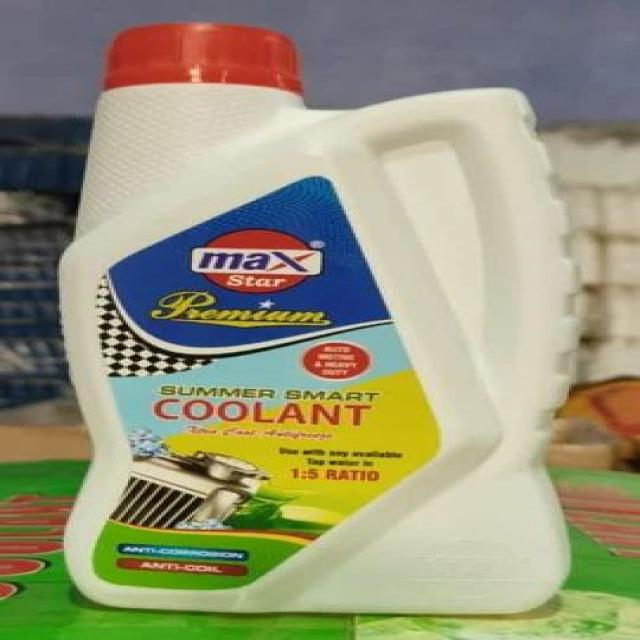coolant: (71, 8, 578, 628)
